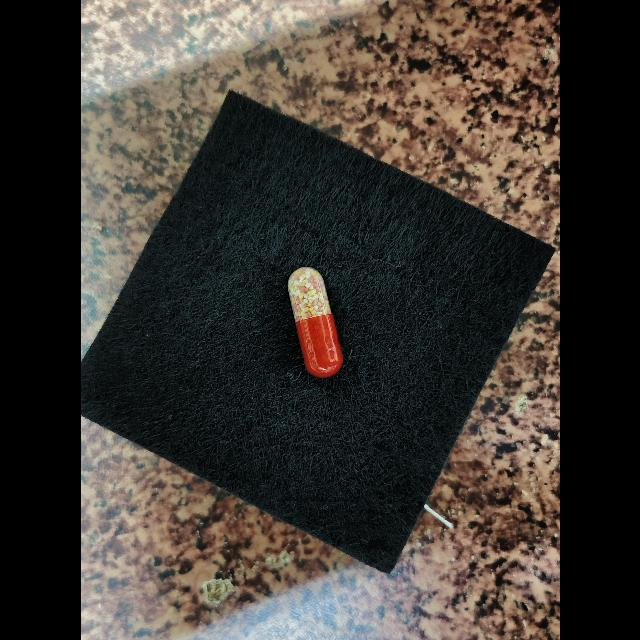Intact Capsule: (287, 267, 342, 377)
